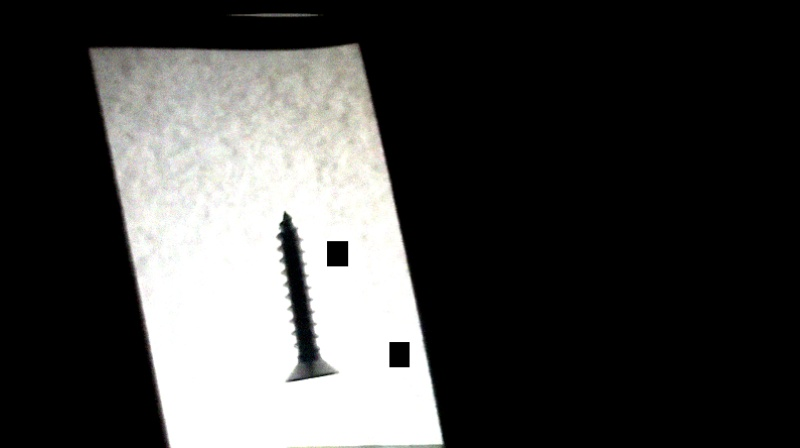S001: (269, 208, 344, 385)
